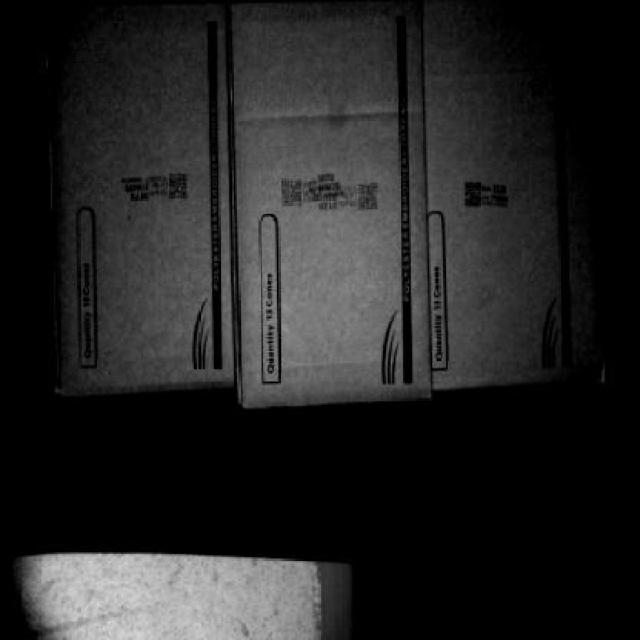cardboxes: (238, 14, 432, 398), (44, 14, 236, 388), (431, 9, 606, 378)
